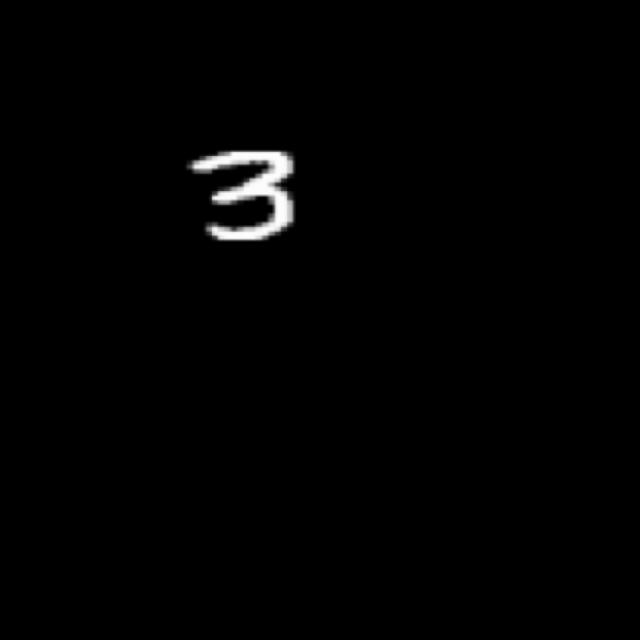three -3-: (181, 140, 306, 251)
